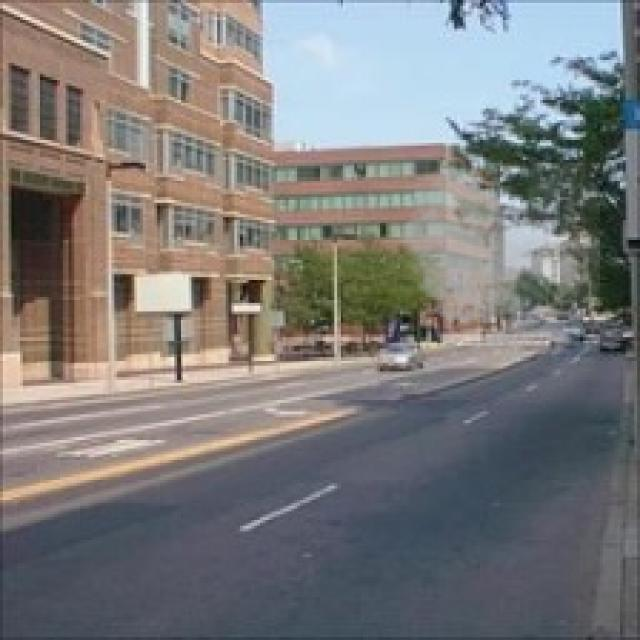smoke: (389, 160, 600, 363)
